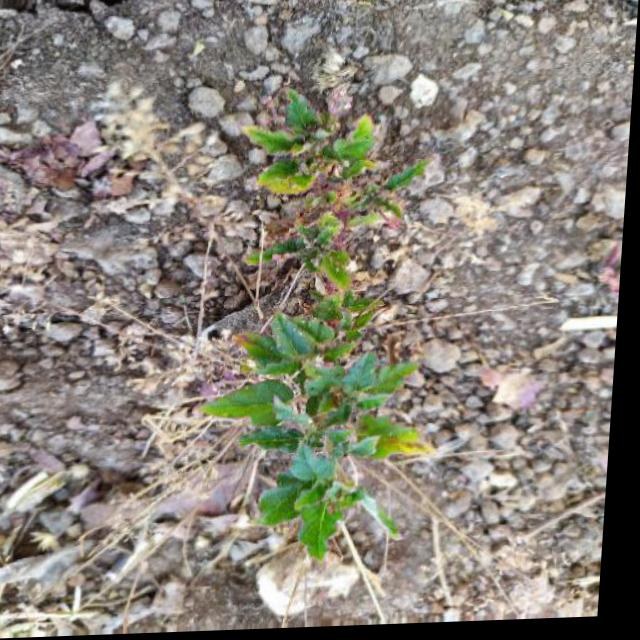weed: (193, 38, 461, 565)
